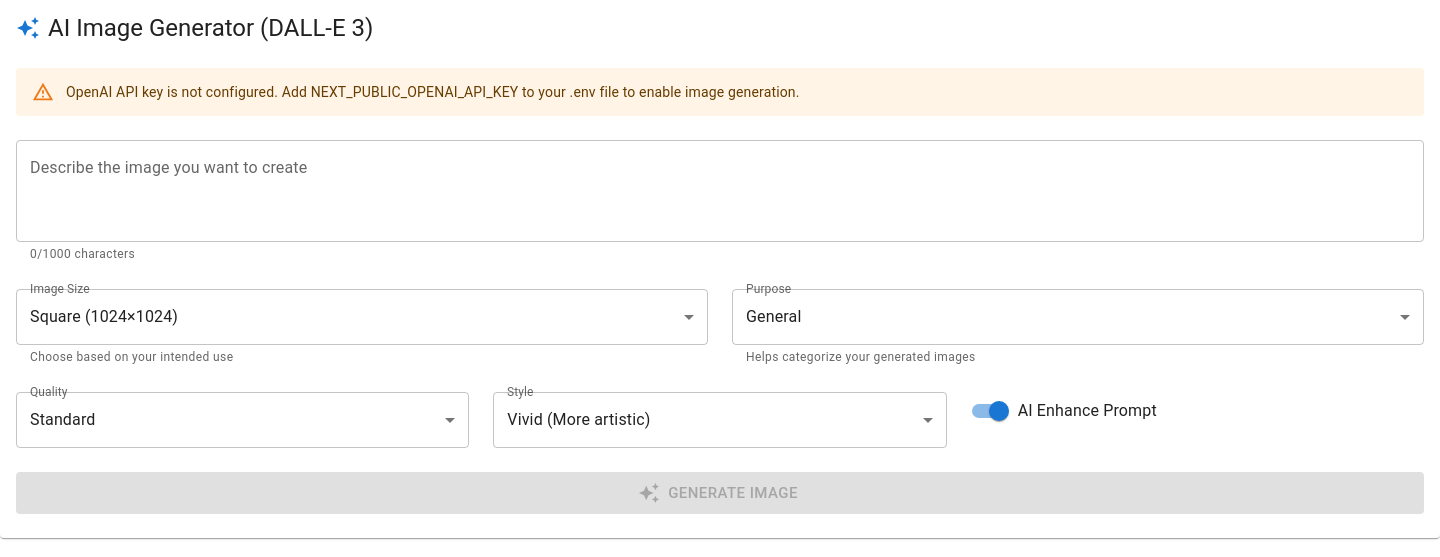
Test: AIImageGenerator › Input Validation › shows validation error for prompt too short
Type "Hi" into the text box labelled "Describe the image you want to create".
click(720, 191); type("Hi")  # box [30,156,1410,226]
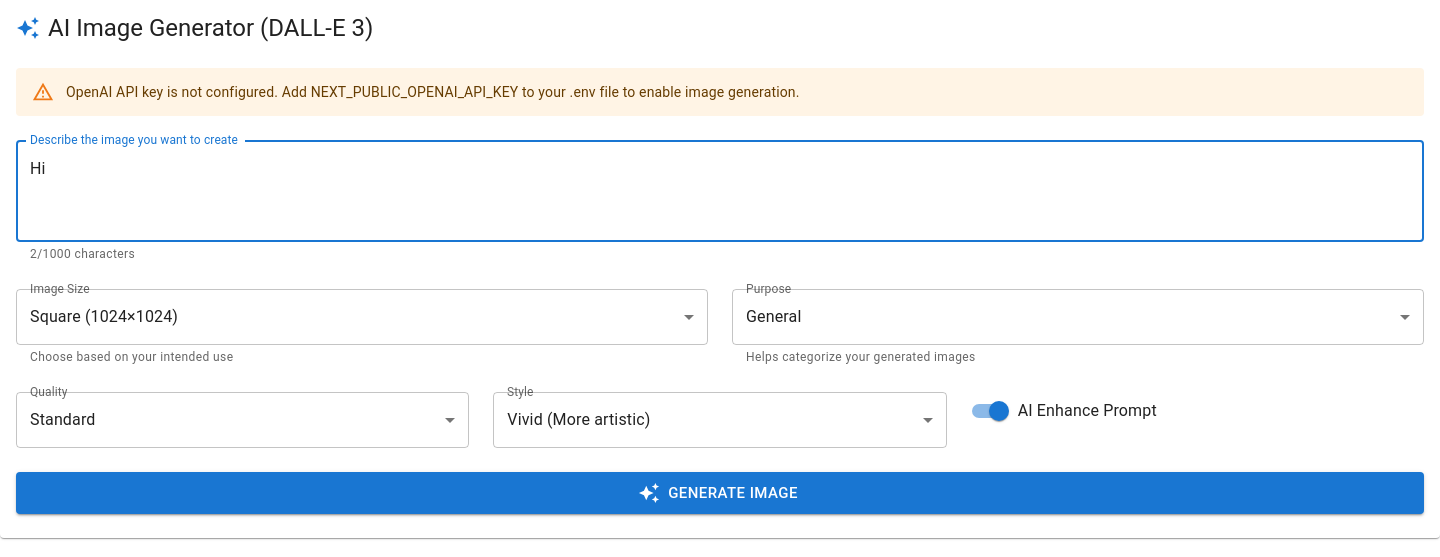
Click the button "Generate Image".
click(720, 493)  # box [16,472,1424,514]
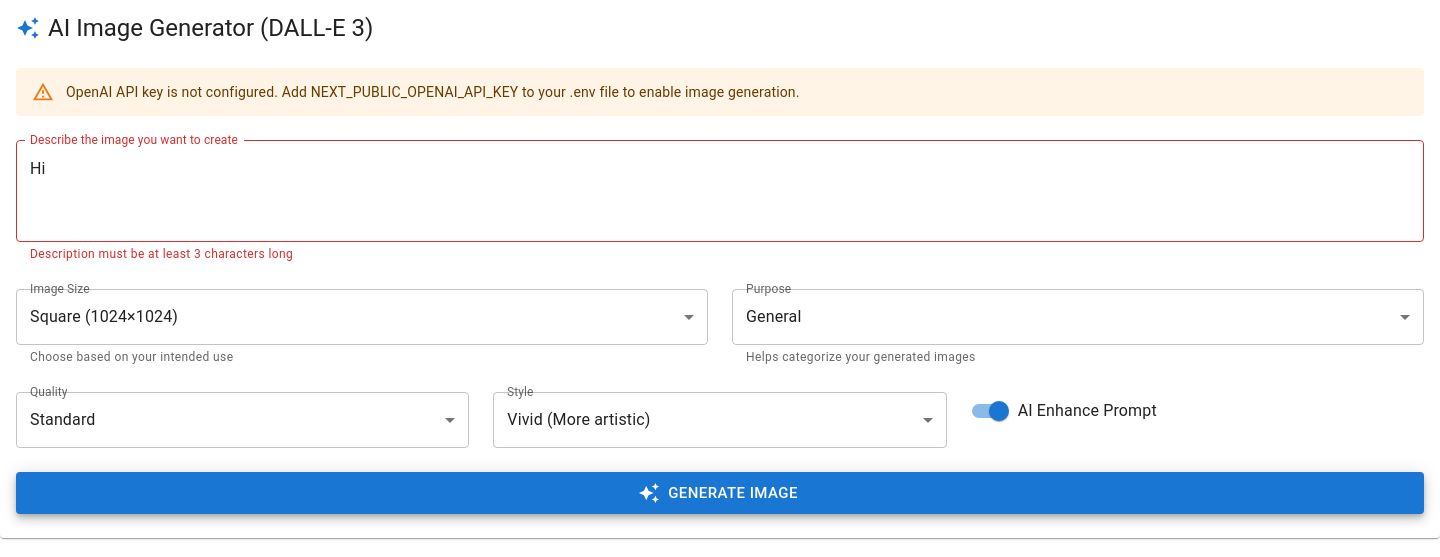
Expected: the text "Description must be at least 3 characters long" is shown, [30,247,293,261]
